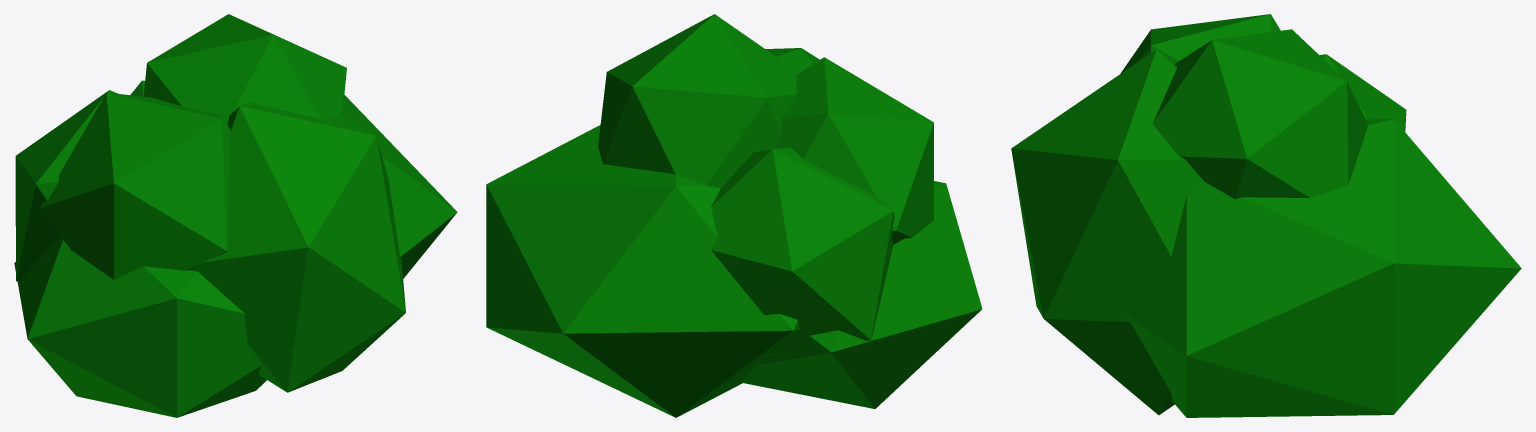
Rendered from bush.obj.
3 renders of one model, left to right at view 1: azimuth 30°, elevation 25°; view 2: azimuth 150°, elevation 25°; view 3: azimuth 270°, elevation 25°, orthographic. The views are drawn at different scales.
Visible parts, largest first — view 1: Hill:Hill:Hill:Hill:polySurface197; view 2: Hill:Hill:Hill:Hill:polySurface197; view 3: Hill:Hill:Hill:Hill:polySurface197.
Boxes of the visible parts, <box> form: Hill:Hill:Hill:Hill:polySurface197: <box>14,14,457,417</box>; Hill:Hill:Hill:Hill:polySurface197: <box>486,14,982,417</box>; Hill:Hill:Hill:Hill:polySurface197: <box>1011,14,1521,417</box>.
Size of the model in its own units: 564 by 419 by 544.
